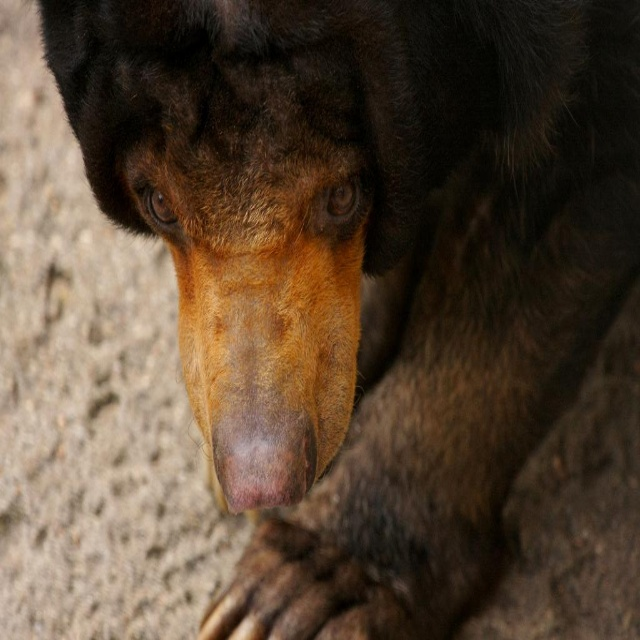Bear: (32, 0, 640, 639)
